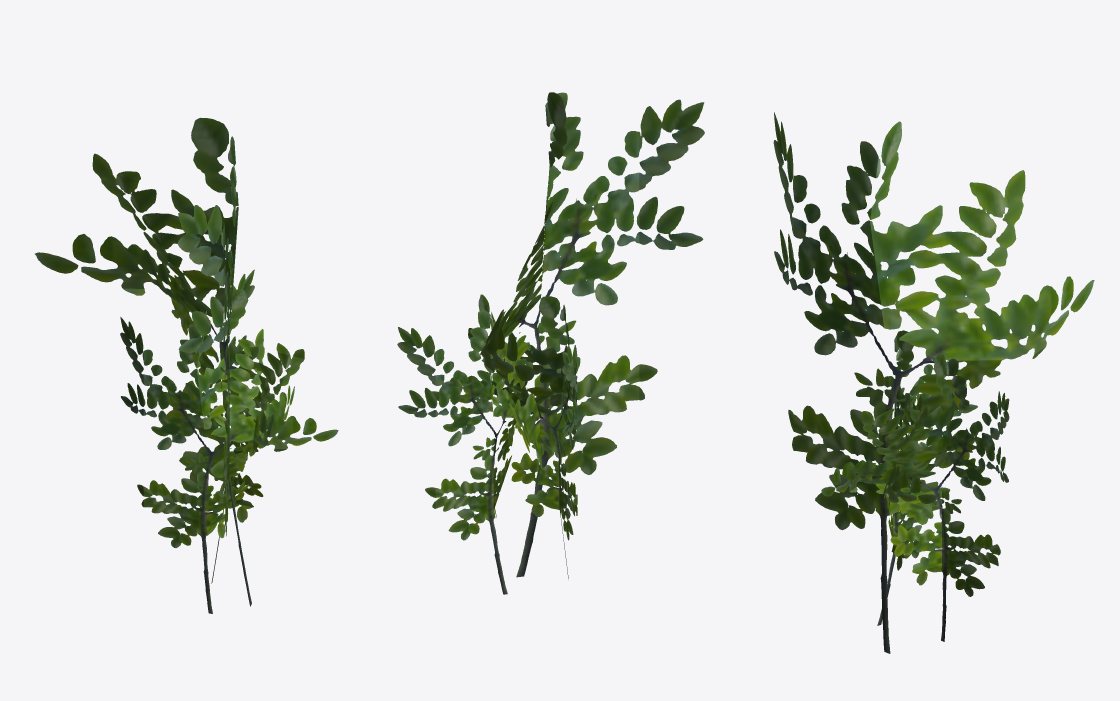
The model's file is Shrub_F1.fbx.
3 views of the same model, side by side, from view 1: azimuth 30°, elevation 25°; view 2: azimuth 150°, elevation 25°; view 3: azimuth 270°, elevation 25° (orthographic). The views are drawn at different scales.
Visible parts, largest first — view 1: Shrub_F1; view 2: Shrub_F1; view 3: Shrub_F1.
Part boxes in pixels (x1=…): Shrub_F1: x1=35, y1=117, x2=338, y2=613; Shrub_F1: x1=397, y1=92, x2=704, y2=594; Shrub_F1: x1=773, y1=112, x2=1094, y2=653.
Size of the model in its own units: 0.8958 by 2 by 1.1.
